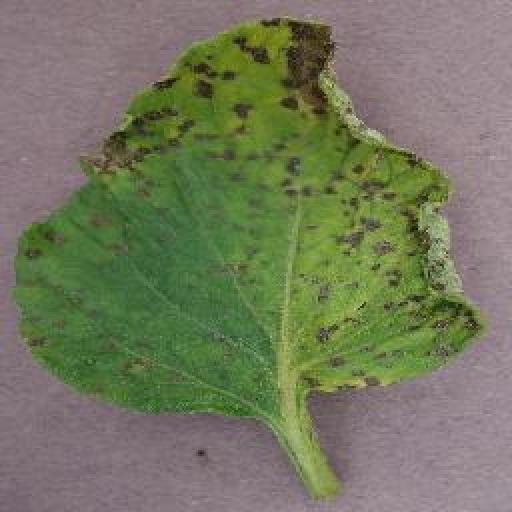disease_tomato: (18, 15, 483, 416)
